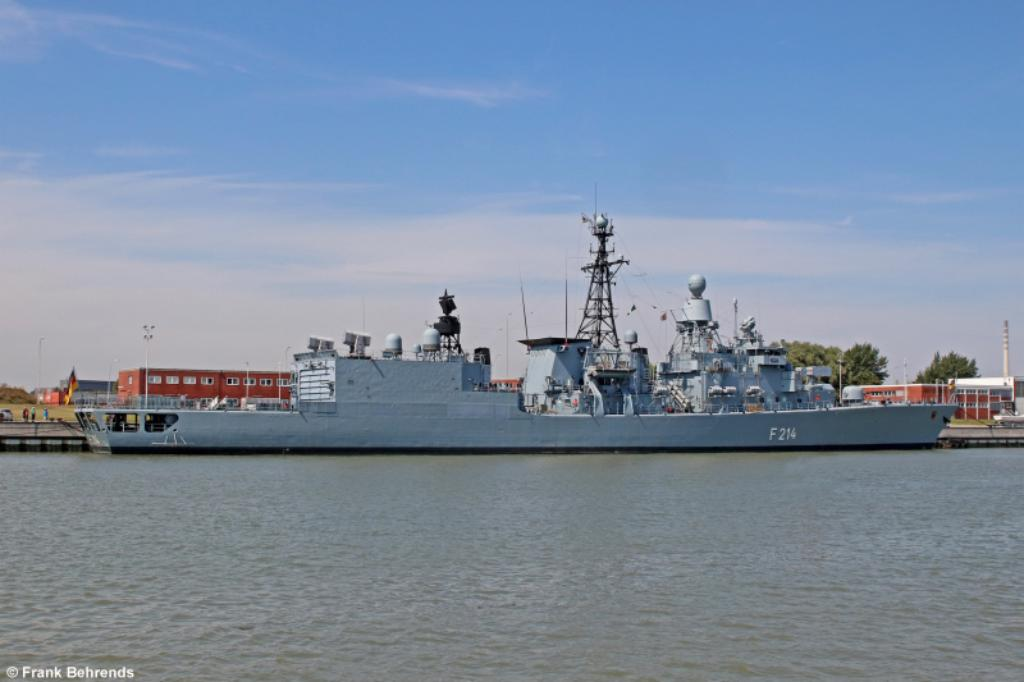Warship: (68, 203, 964, 455)
